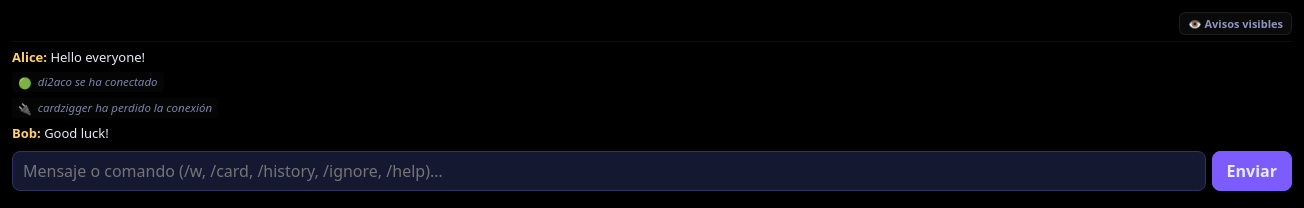
ChatBox component › toggles visibility of connection/disconnection notices
Expected: the text "di2aco se ha conectado" is shown, x1=38 y1=74 x2=158 y2=89
Click the button "👁️ Avisos visibles". click: click(1235, 24)
box: x1=1179 y1=12 x2=1292 y2=35
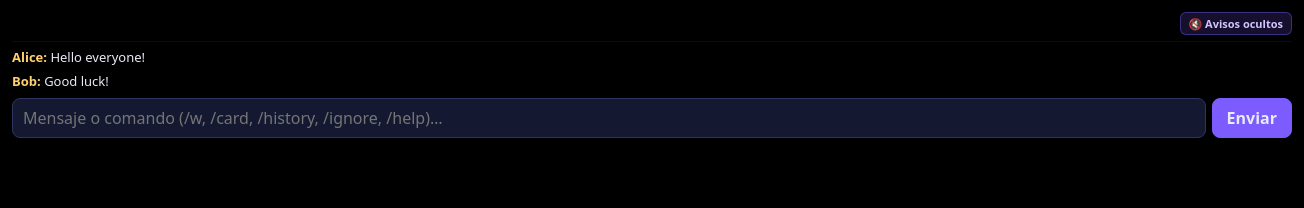
Expected: the button "🔇 Avisos ocultos" is shown, x1=1180 y1=12 x2=1292 y2=35
Expected: the text "di2aco se ha conectado" is gone
Expected: the text "cardzigger ha perdido la conexión" is gone
